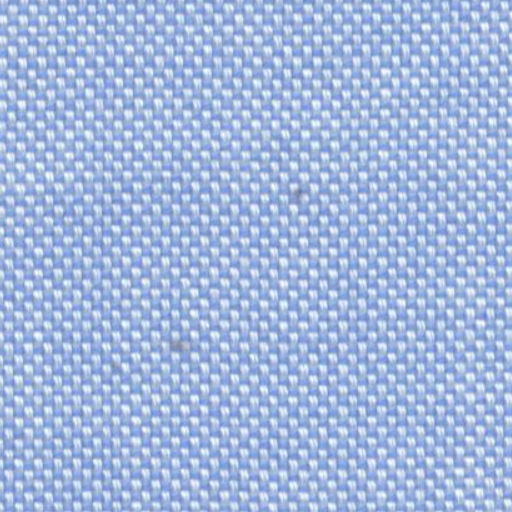WuZi: (146, 316, 210, 362), (282, 174, 320, 216)
